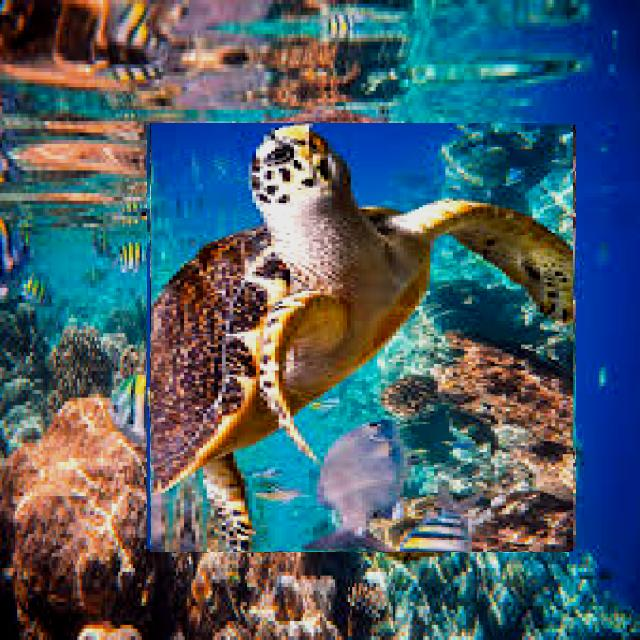Sea turtle: (148, 124, 575, 551)
